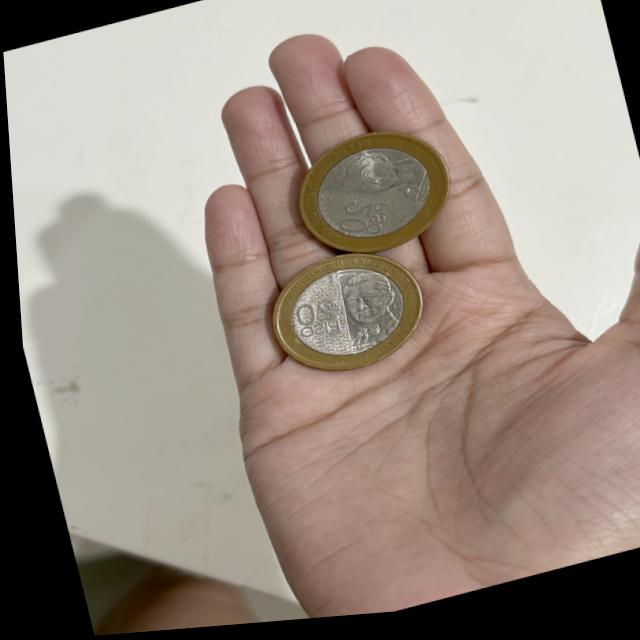20_New_Front: (324, 196, 390, 253), (283, 298, 344, 351)
